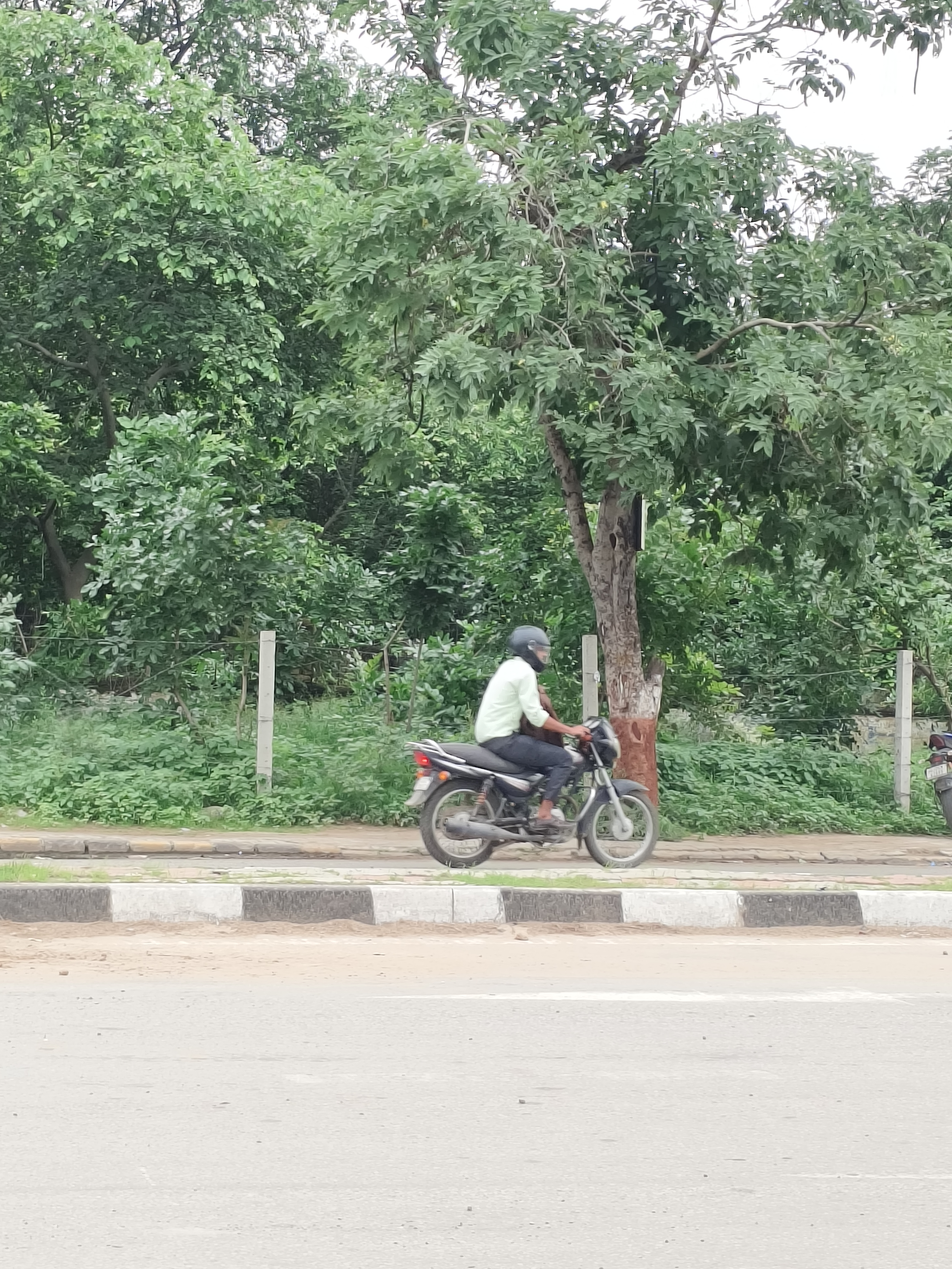BikeWithRider: (394, 613, 670, 878)
Helmet: (501, 619, 562, 679)
